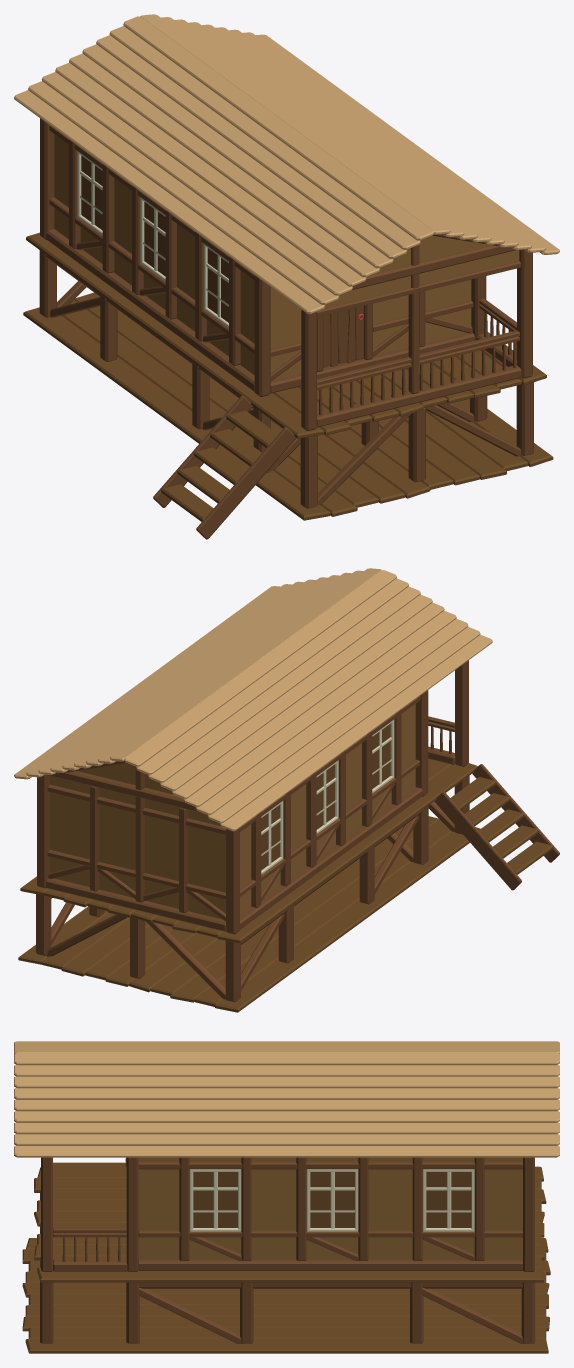
Rendered from farmstractures_14.gltf.
3 renders of one model, top to bottom at view 1: azimuth 30°, elevation 25°; view 2: azimuth 150°, elevation 25°; view 3: azimuth 270°, elevation 25°, orthographic. The views are drawn at different scales.
Parts seen in each view (by area): view 1: blades, body; view 2: blades, body; view 3: blades, body.
Boxes of the visible parts, x1,y1,x2,y2 form: blades: (14, 14, 558, 429); body: (14, 16, 559, 539); blades: (15, 568, 492, 933); body: (14, 569, 559, 1012); blades: (15, 1041, 558, 1271); body: (14, 1042, 559, 1353).
Bounding box in the file's own units: 6.6 × 4.91 × 9.77.
Materials: 1 (1 with a texture image).
